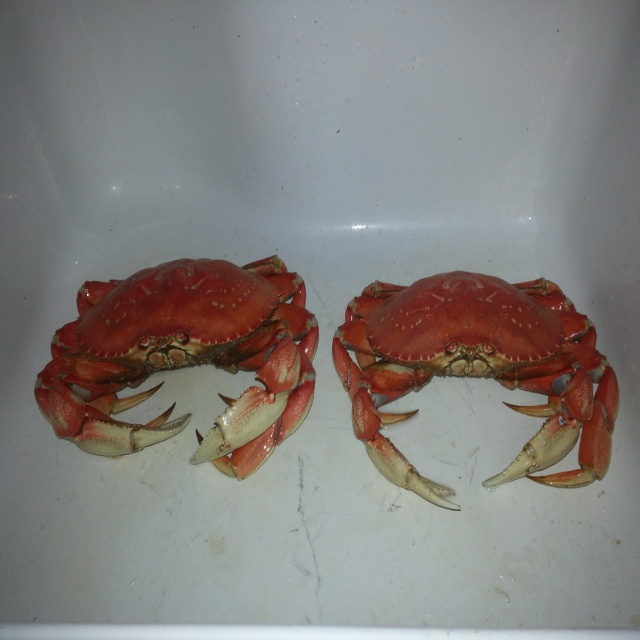Crab: (332, 270, 620, 510), (34, 254, 319, 481)
